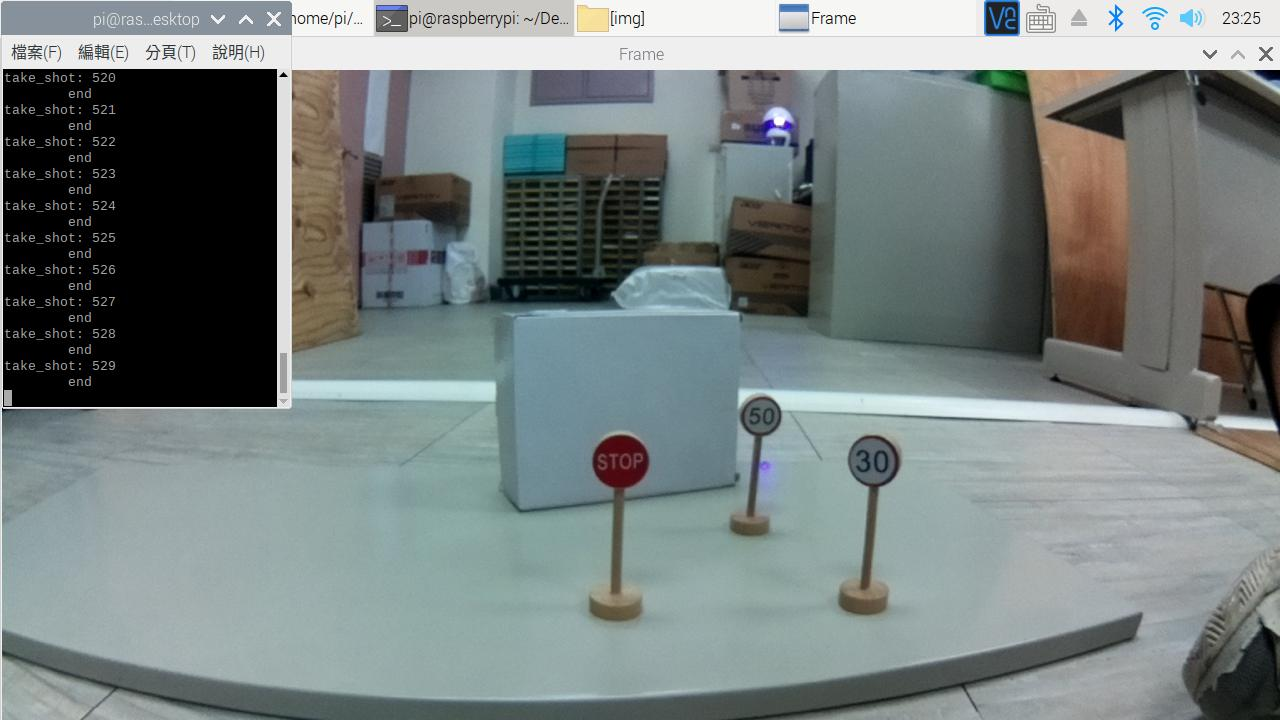Speed30: (844, 429, 913, 503)
Speed50: (733, 394, 795, 451)
Stop: (589, 434, 657, 508)
